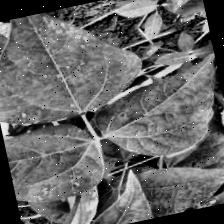ALS: (0, 0, 155, 133), (86, 57, 224, 165), (3, 119, 105, 206)
